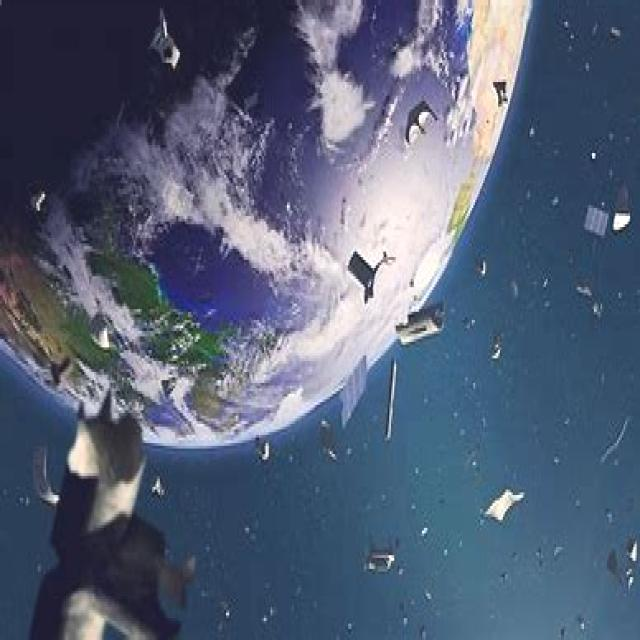large_debris: (13, 377, 195, 640)
medium_debris: (148, 0, 189, 80), (339, 352, 374, 422), (390, 304, 458, 340), (358, 533, 403, 585), (484, 483, 519, 532), (404, 105, 438, 146), (586, 204, 613, 234), (30, 181, 51, 217)
small_debris: (551, 536, 569, 568), (490, 329, 505, 364), (417, 518, 436, 545), (618, 410, 636, 437), (322, 438, 339, 466), (575, 609, 594, 634), (609, 551, 623, 581), (576, 276, 593, 300), (258, 435, 272, 461), (472, 447, 486, 472), (609, 21, 625, 41), (465, 310, 479, 332), (478, 253, 490, 277), (417, 620, 430, 640), (588, 146, 600, 165), (527, 124, 538, 141)
